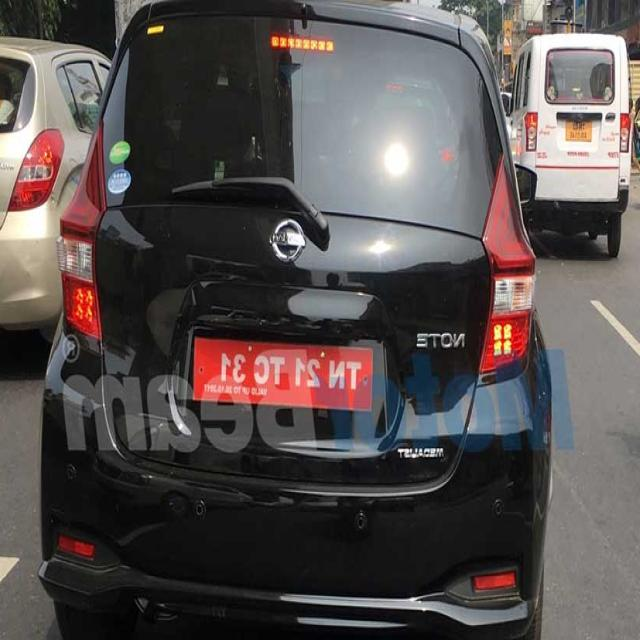number-plate: (188, 330, 380, 420)
